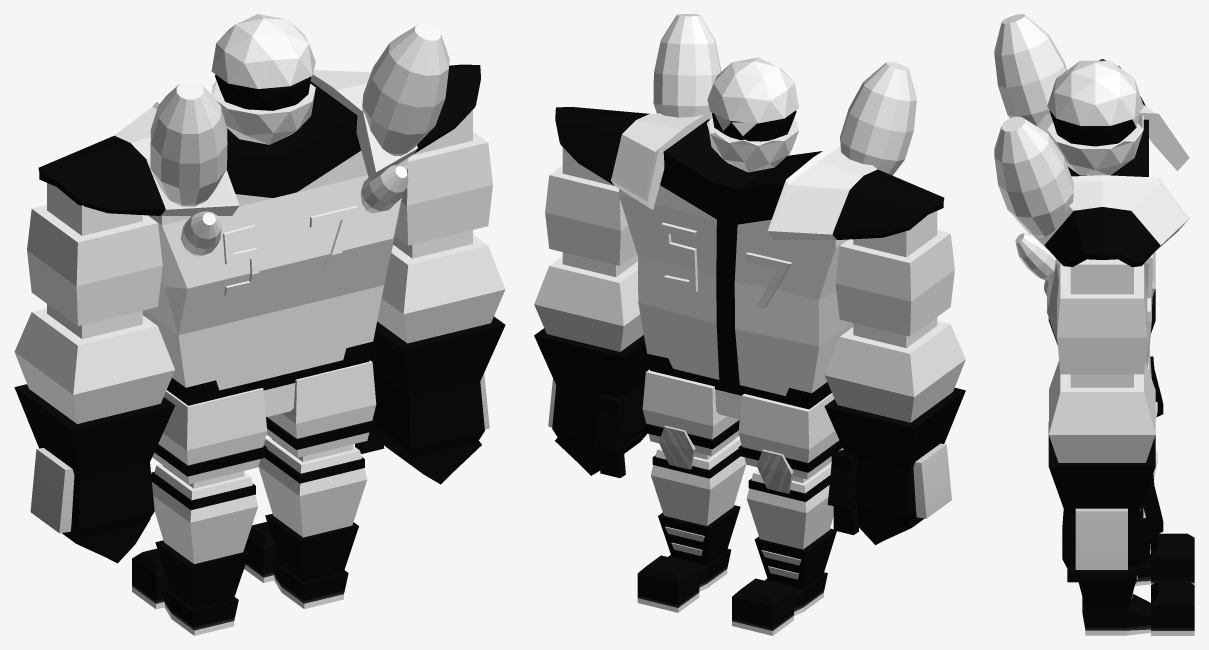
The model's file is Boss1Model.fbx.
3 views of the same model, side by side, from view 1: azimuth 30°, elevation 25°; view 2: azimuth 150°, elevation 25°; view 3: azimuth 270°, elevation 25° (orthographic). The views are drawn at different scales.
Visible parts, largest first — view 1: Boss1Model; view 2: Boss1Model; view 3: Boss1Model.
Part boxes in pixels (box(x1,y1,x2,y2)): Boss1Model: box(14, 14, 505, 635); Boss1Model: box(534, 14, 965, 635); Boss1Model: box(994, 14, 1194, 635).
Bounding box in the file's own units: 954 × 1232 × 414.
